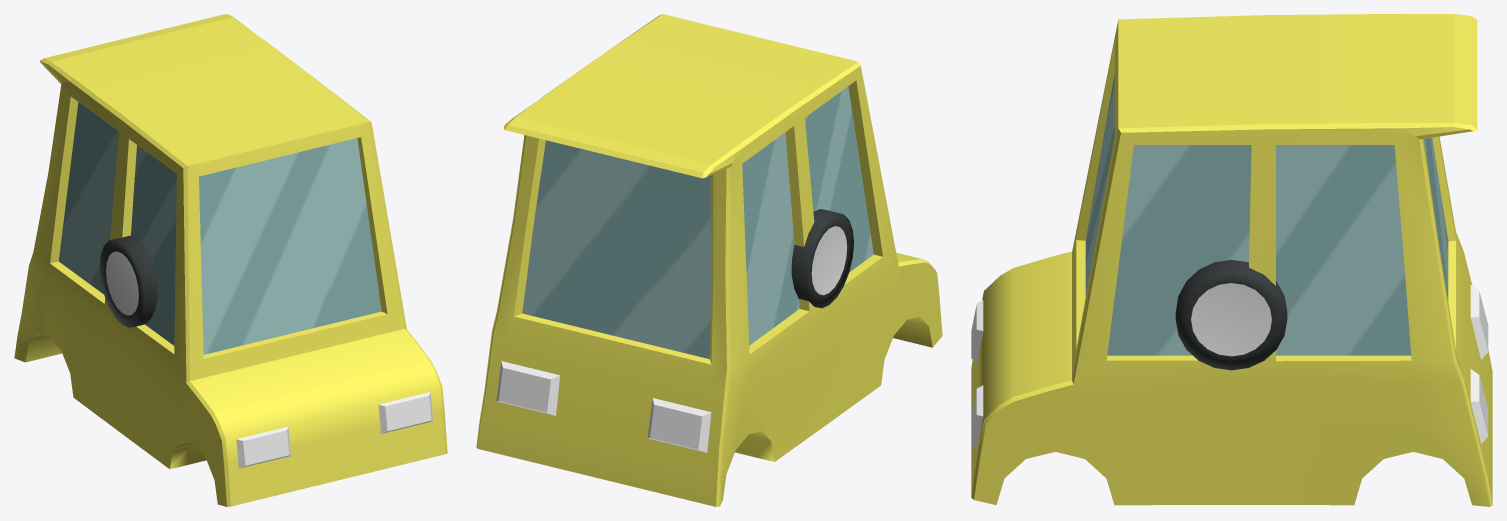
File: car_6_Y.fbx
The picture shows the model from 3 angles, left to right: view 1: azimuth 30°, elevation 25°; view 2: azimuth 150°, elevation 25°; view 3: azimuth 270°, elevation 25°; orthographic projection. The views are drawn at different scales.
Parts seen in each view (by area): view 1: car_6_chasis_Y, car_6_right_wheel_Y, car_6_back_wheel_Y; view 2: car_6_chasis_Y, car_6_right_wheel_Y; view 3: car_6_chasis_Y, car_6_back_wheel_Y, car_6_left_wheel_Y.
Part boxes in pixels (x1=…): car_6_chasis_Y: x1=14, y1=14, x2=447, y2=506; car_6_right_wheel_Y: x1=99, y1=235, x2=157, y2=327; car_6_back_wheel_Y: x1=113, y1=239, x2=157, y2=326; car_6_chasis_Y: x1=476, y1=14, x2=942, y2=506; car_6_right_wheel_Y: x1=791, y1=209, x2=853, y2=308; car_6_chasis_Y: x1=971, y1=14, x2=1492, y2=506; car_6_back_wheel_Y: x1=1175, y1=261, x2=1287, y2=370; car_6_left_wheel_Y: x1=1175, y1=259, x2=1287, y2=315.
Bounding box in the file's own units: 98.97 × 126 × 161.
